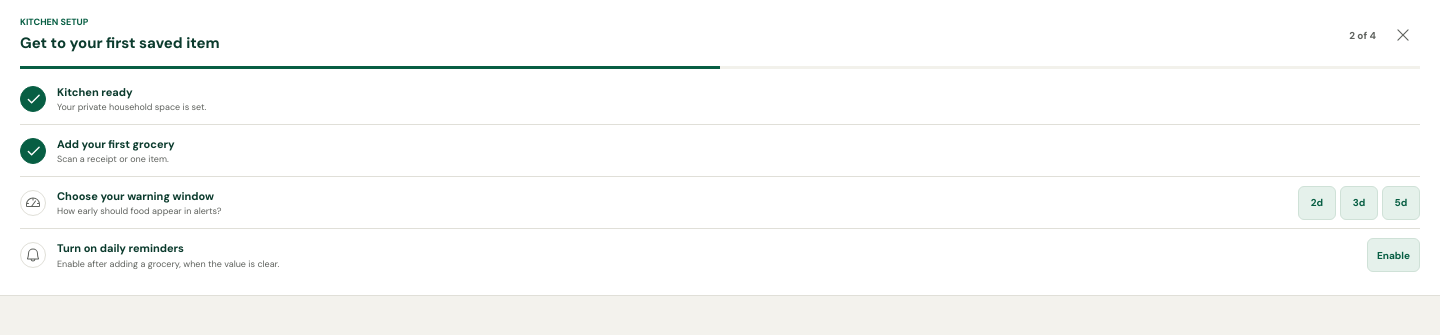
Test case: OnboardingCarousel › shows the blocked-notifications alert when requestPermission is denied
Click the button "Enable" at (1393,255), box [1367,238,1420,272]
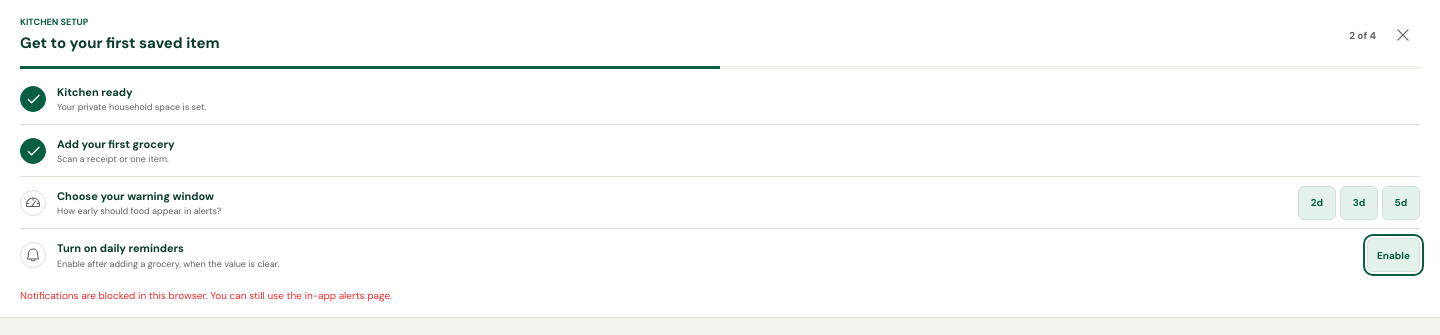
Check: the message shows "Notifications are blocked in this browser. You can still use the in-app alerts page.", box [20,289,392,302]
